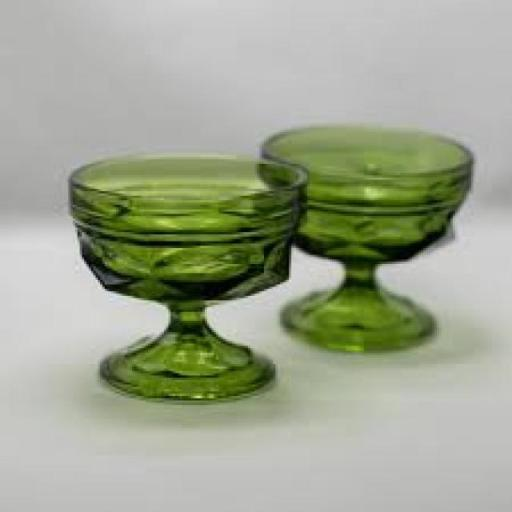glass: (63, 151, 305, 400), (257, 122, 479, 352)
